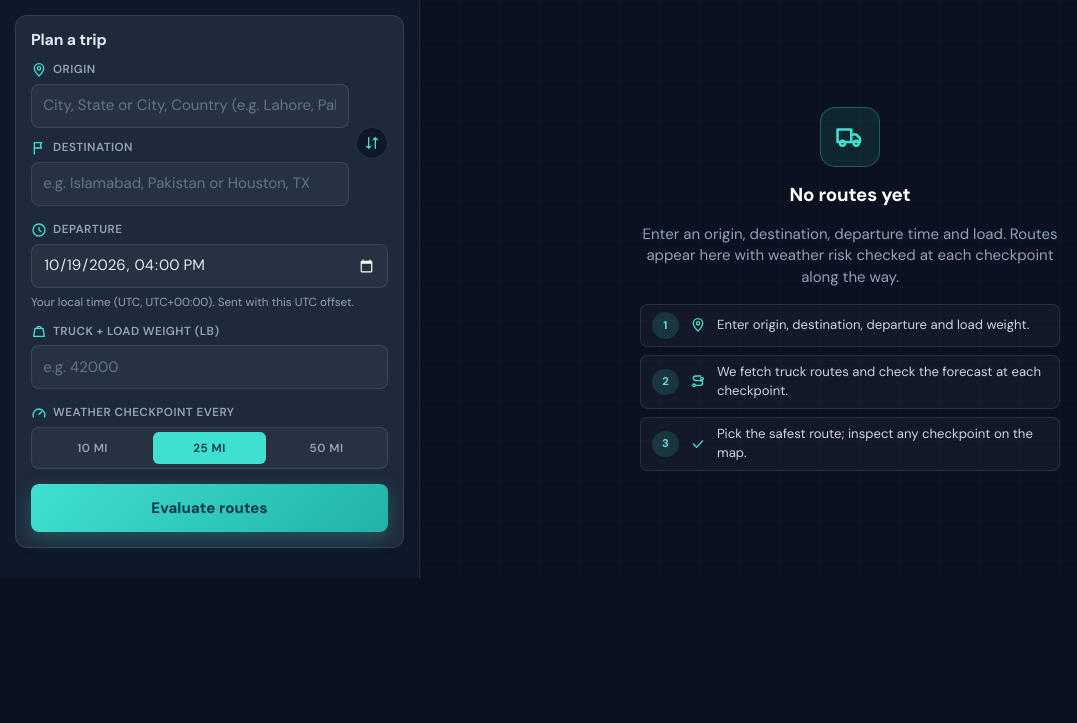
Scenario: RoutePlanner › points at the input whose location is not near a truck road
Type "Waco, TX" into the dropdown labelled "Origin".
click(190, 106); type("Waco, TX")  # box [31,84,348,128]
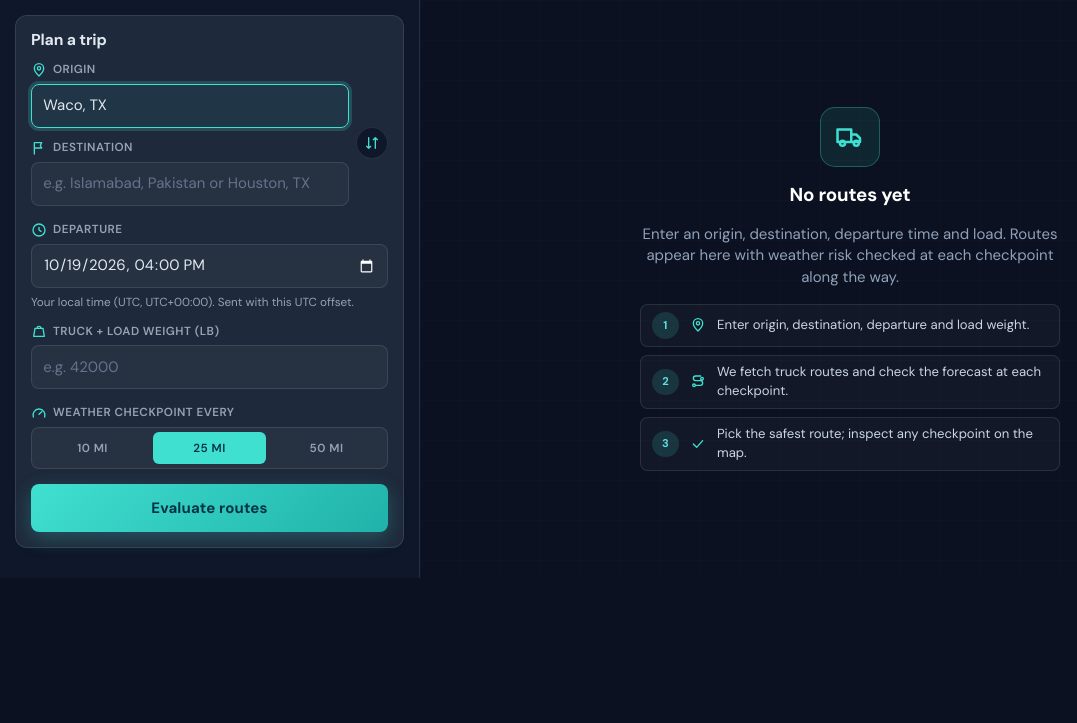
Type "Temple, TX" into the dropdown labelled "Destination".
click(190, 184); type("Temple, TX")  # box [31,162,348,206]
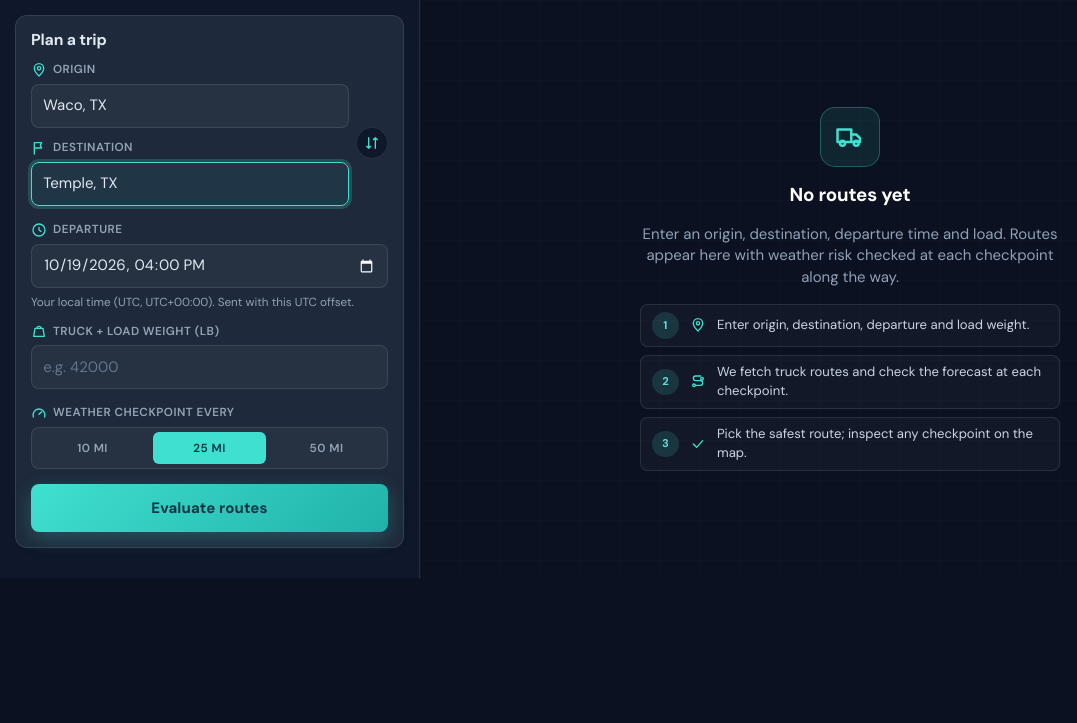
Replace the text in the field labelled "Departure" with "2026-10-19T08:00" at coordinates (210, 266), box [31,244,388,288]
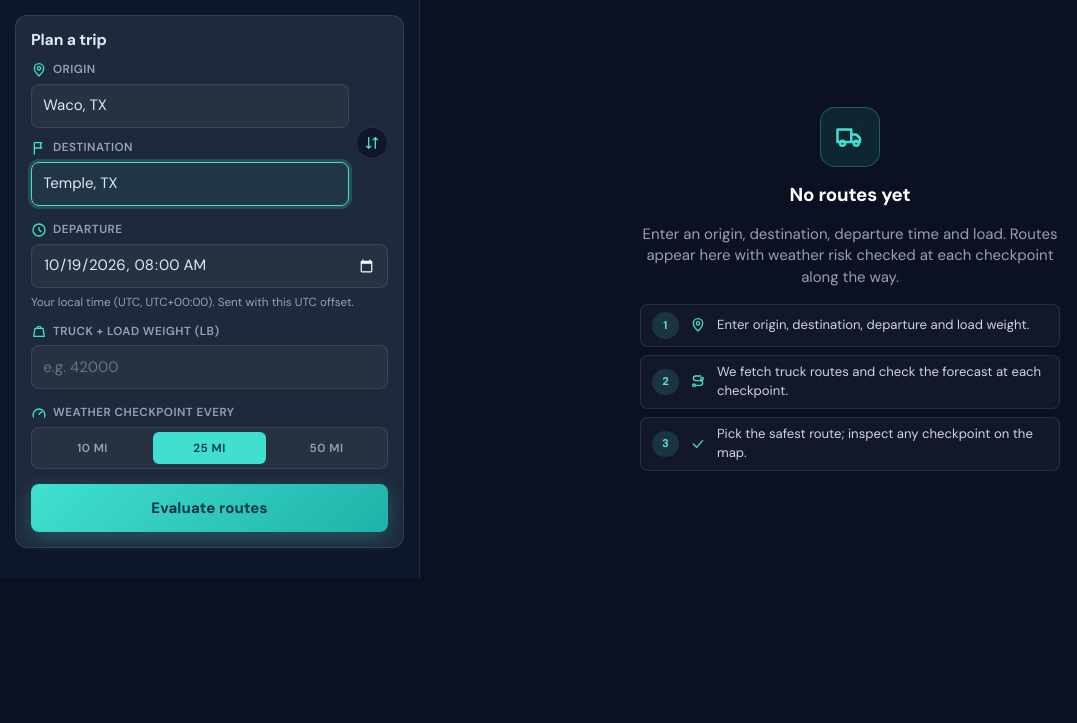
Type "42000" into the number field labelled "Truck + load weight (lb)".
click(210, 368); type("42000")  # box [31,346,388,390]
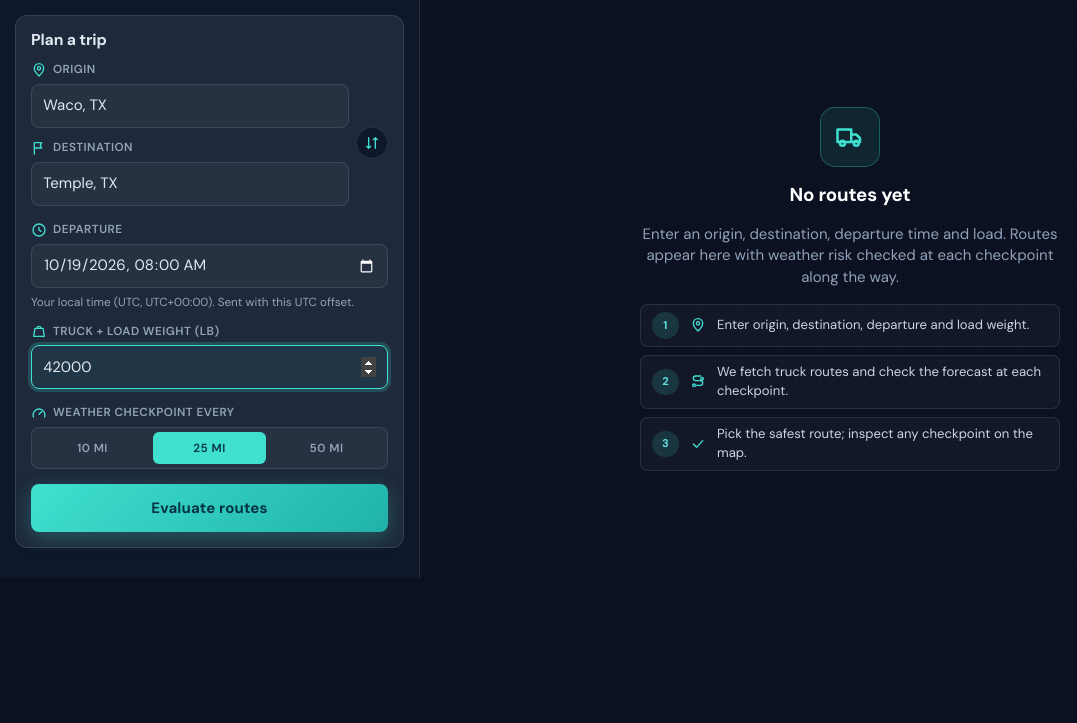
Click the button "Evaluate routes".
click(210, 508)  # box [31,484,388,532]
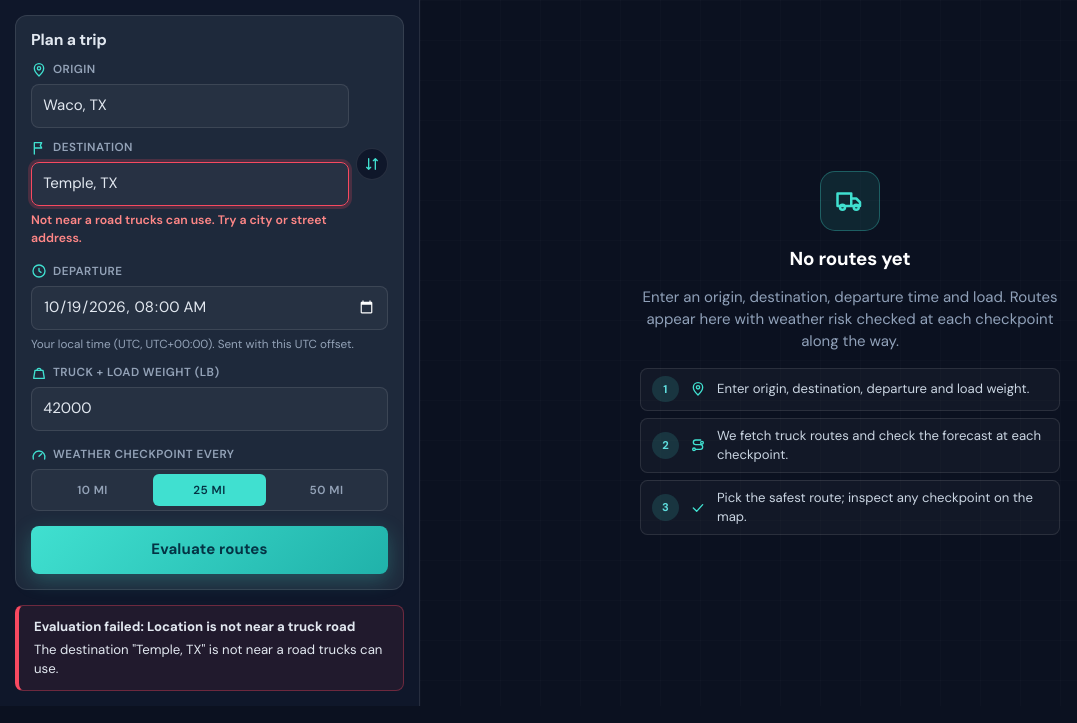
Check: the text "Evaluation failed: Location is not near a truck road" is shown, box [34,617,388,636]
Check: the text "Not near a road trucks can use. Try a city or street address." is shown, box [31,212,348,248]
